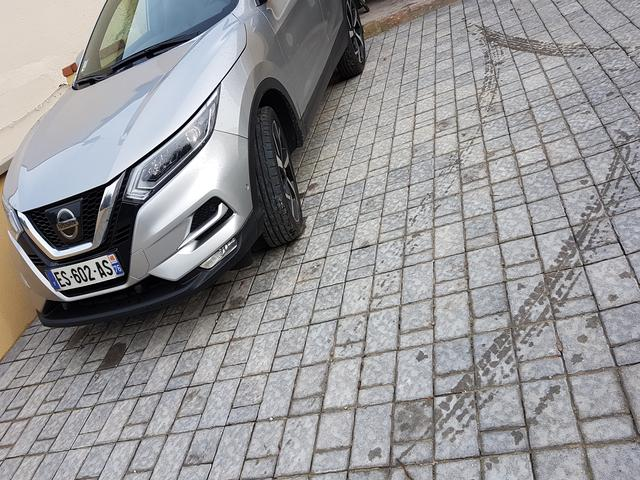Quashquai: (41, 252, 131, 298)
